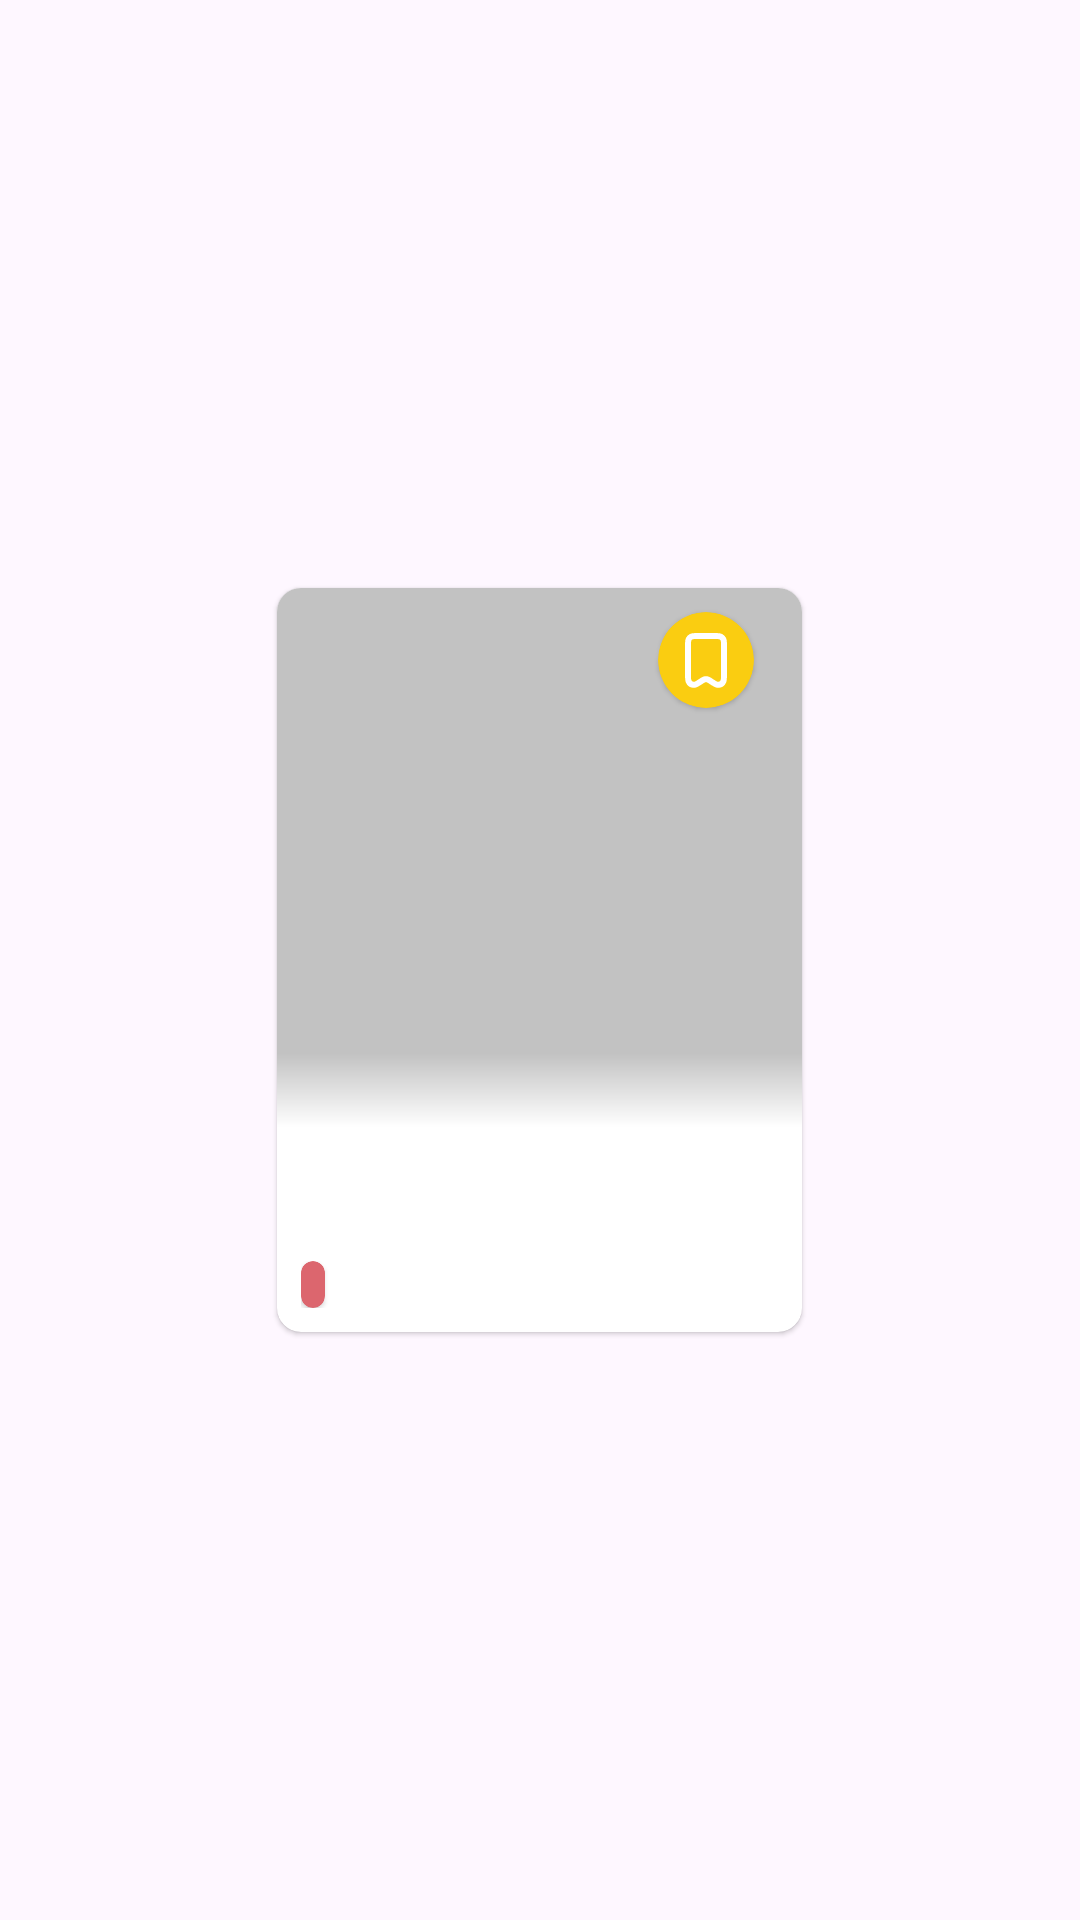

Locate icon controls on the screen. Image size 1080px x 1920px, boxes as bbox=(x1, y1, x2, y2).
bookmark: bbox=(658, 612, 754, 708)
